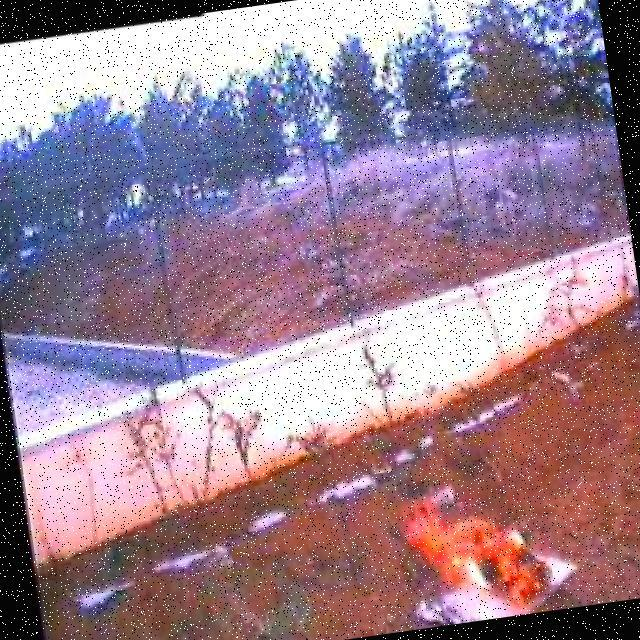Fire: (398, 485, 560, 627)
